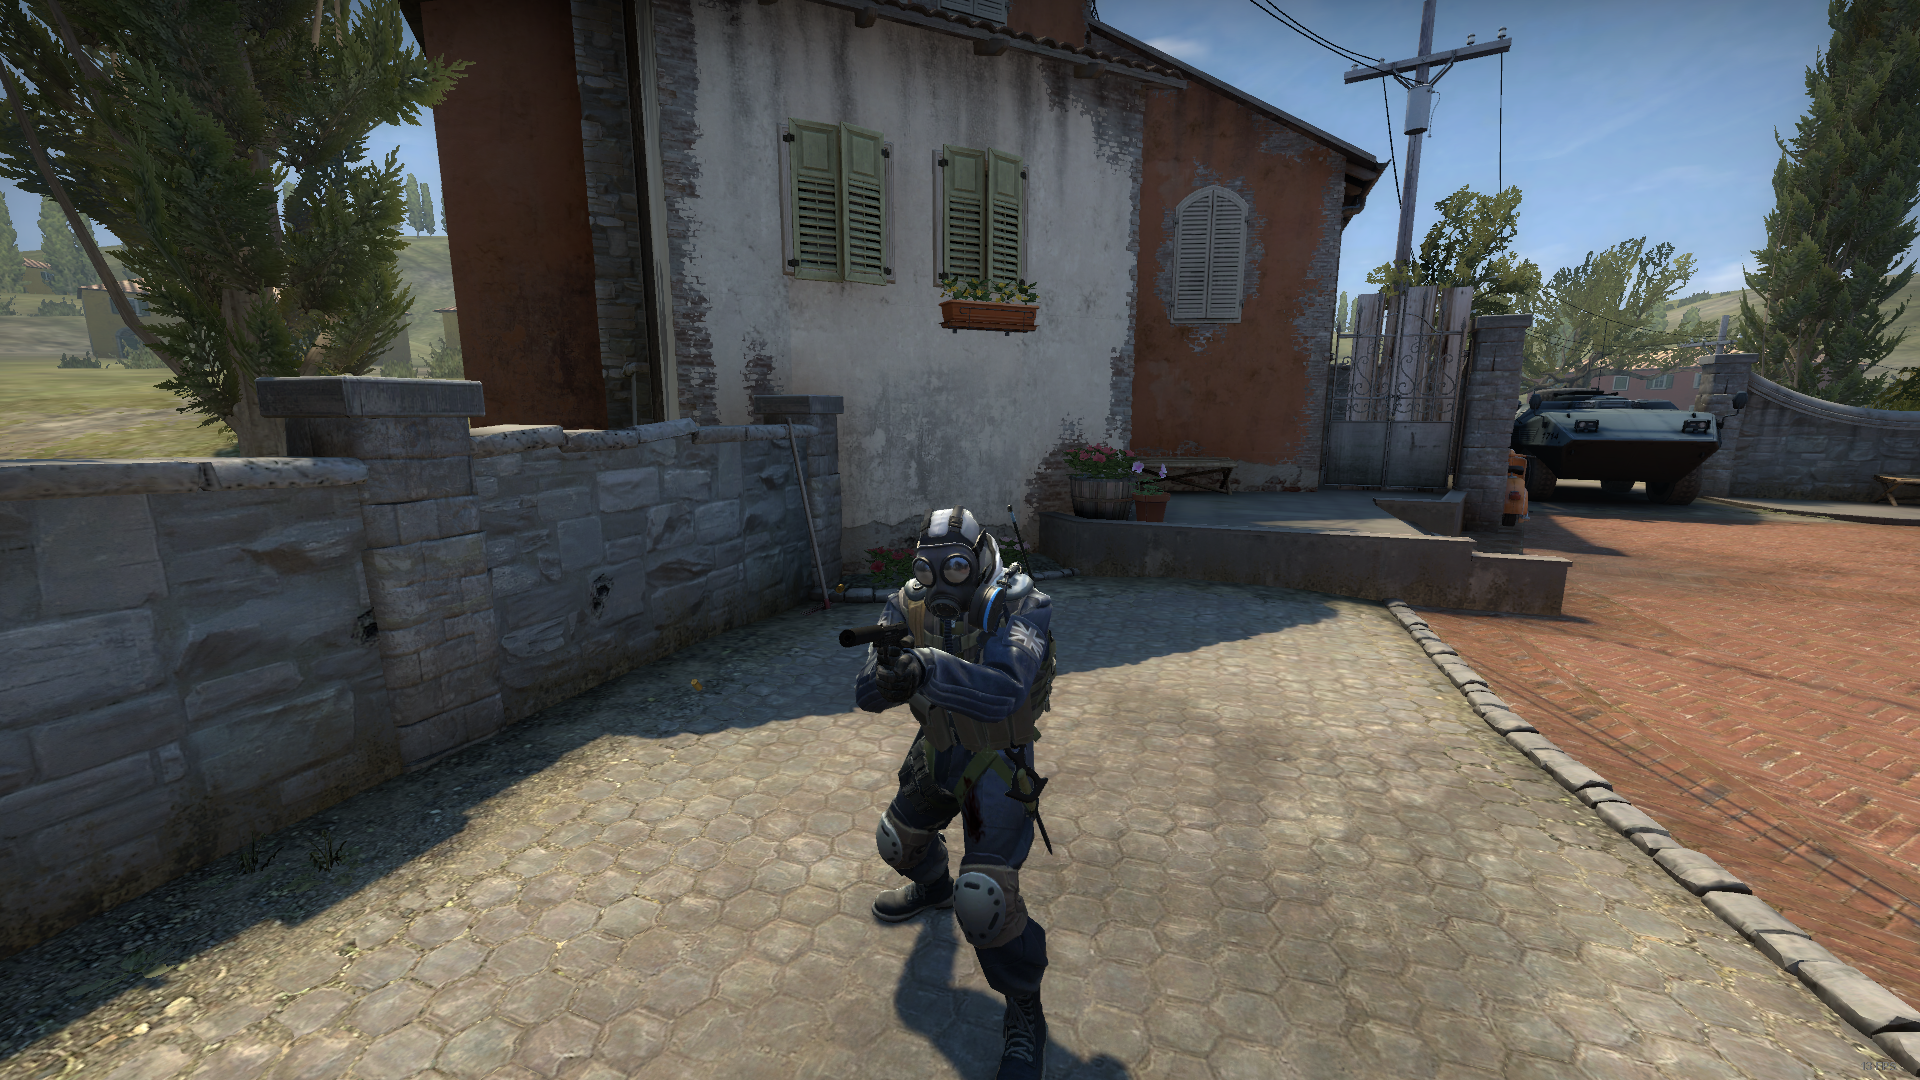ct: (825, 455, 1095, 1080)
